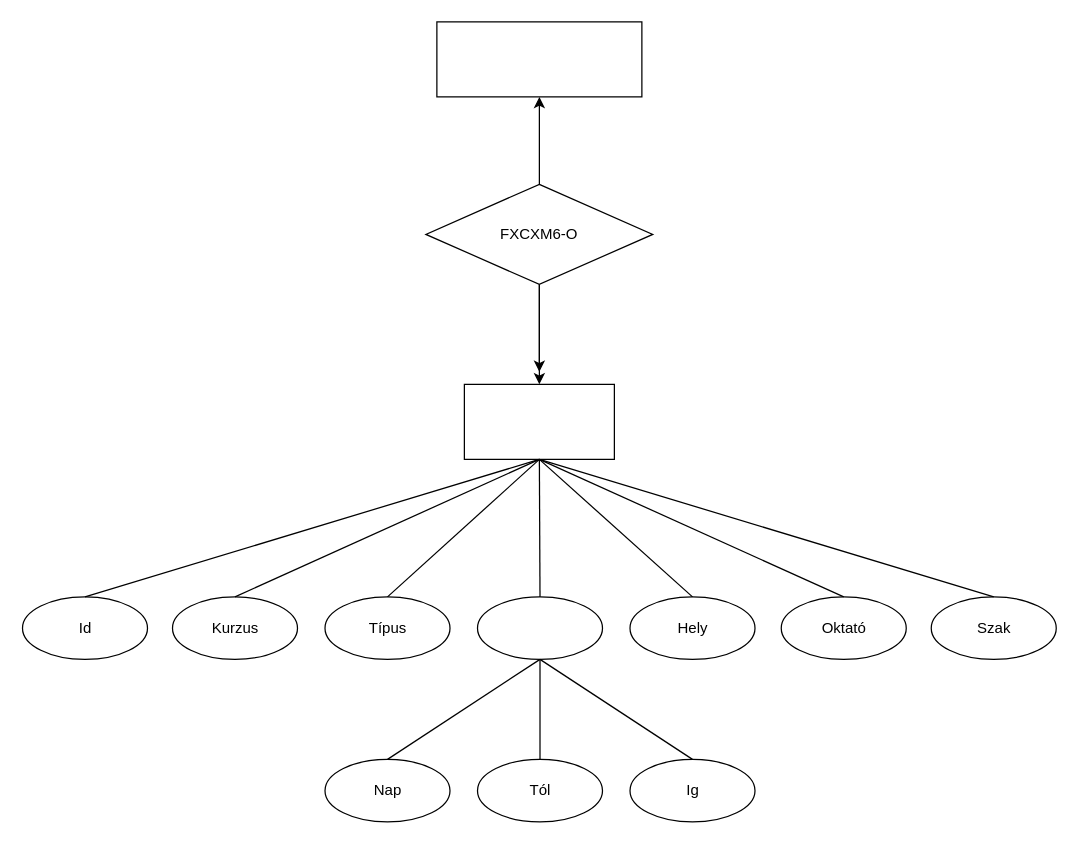
This 1078x844 diagram has some shape labels left out. Here are the shapes that lost their labels. From the top down, the centre of each, then its label:
(539,59): FXCXM6 órarend
(538,421): Óra
(539,627): Időpont
